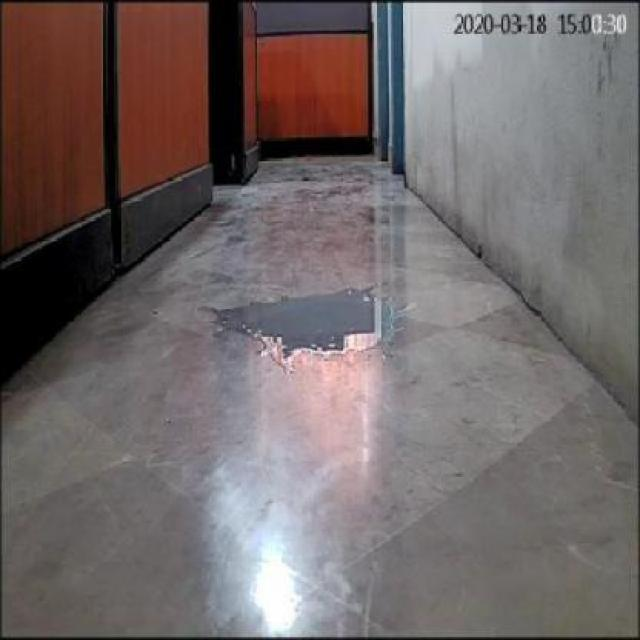spillage: (214, 292, 417, 371)
